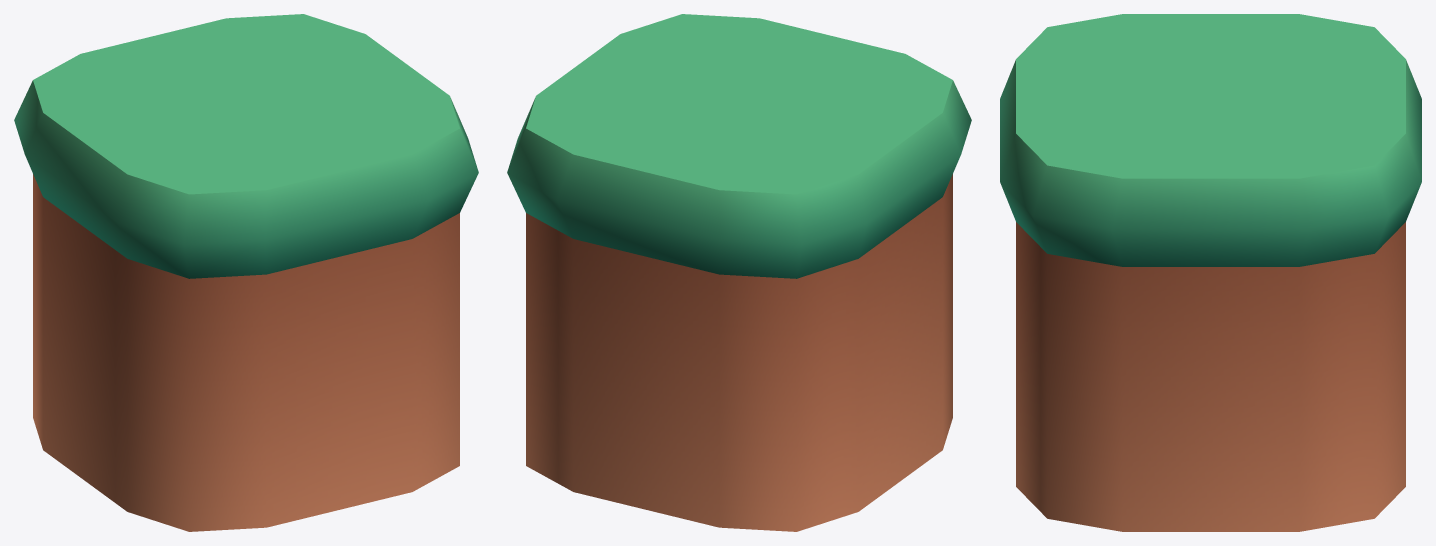
The model's file is block-grass.glb.
3 renders of one model, left to right at view 1: azimuth 30°, elevation 25°; view 2: azimuth 150°, elevation 25°; view 3: azimuth 270°, elevation 25°, orthographic. The views are drawn at different scales.
Parts seen in each view (by area): view 1: block-grass; view 2: block-grass; view 3: block-grass.
Part boxes in pixels (x1,y1,x2,y2): block-grass: [14, 14, 478, 531]; block-grass: [507, 14, 971, 531]; block-grass: [1000, 14, 1421, 531].
Bounding box in the file's own units: 1.08 × 1 × 1.08.
Materials: 1 (1 with a texture image).
